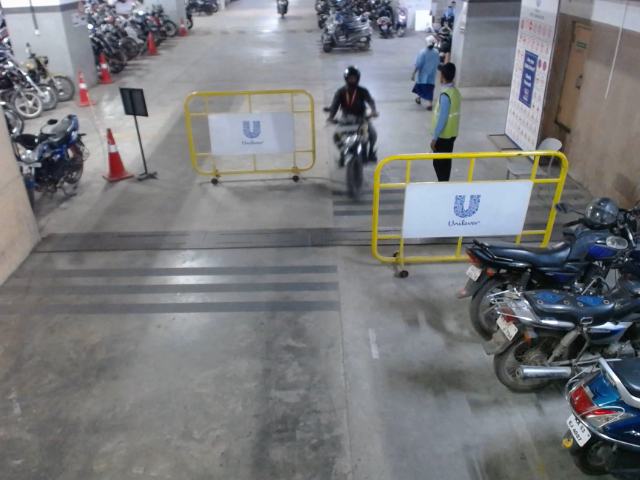with_helmet: (340, 64, 362, 88)
